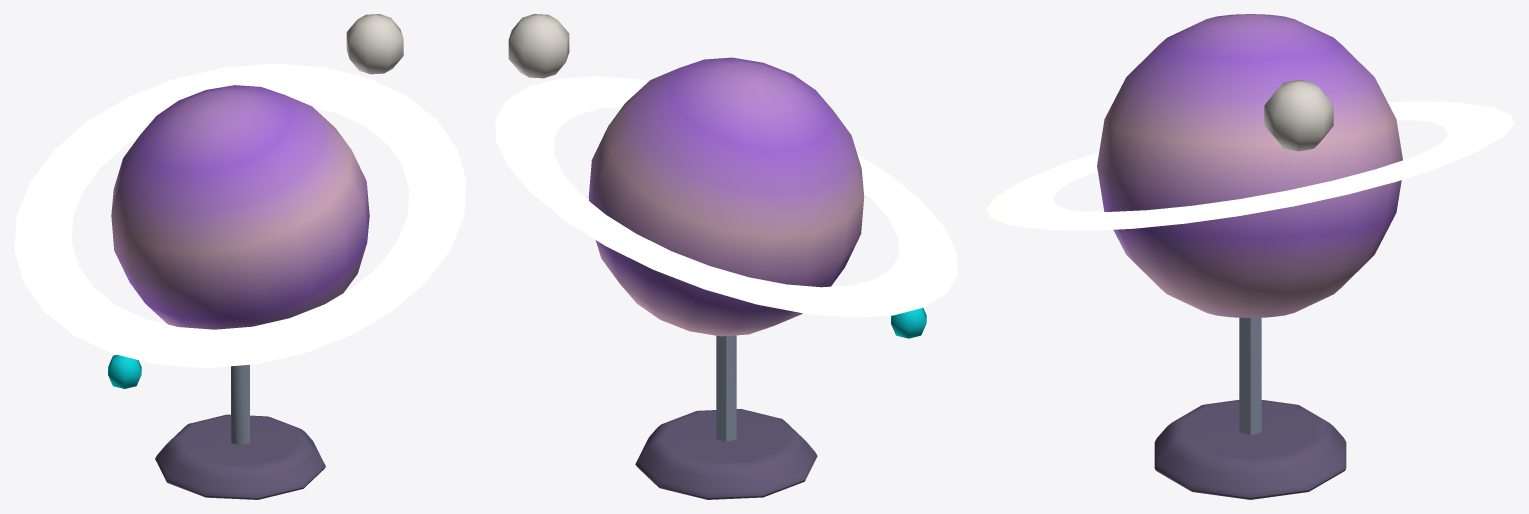
File: s5Planet.glb
3 views of the same model, side by side, from view 1: azimuth 30°, elevation 25°; view 2: azimuth 150°, elevation 25°; view 3: azimuth 270°, elevation 25° (orthographic). The views are drawn at different scales.
Visible parts, largest first — view 1: Body, Glow_FFE066; view 2: Body, Glow_FFE066; view 3: Body, Glow_FFE066.
Part boxes in pixels (x1,y1,x2,y2): Body: [108, 14, 403, 499]; Glow_FFE066: [14, 63, 466, 368]; Body: [508, 14, 926, 499]; Glow_FFE066: [495, 76, 957, 317]; Body: [1097, 14, 1402, 499]; Glow_FFE066: [986, 101, 1514, 230].
Size of the model in its own units: 6.41 by 6.35 by 6.54.
